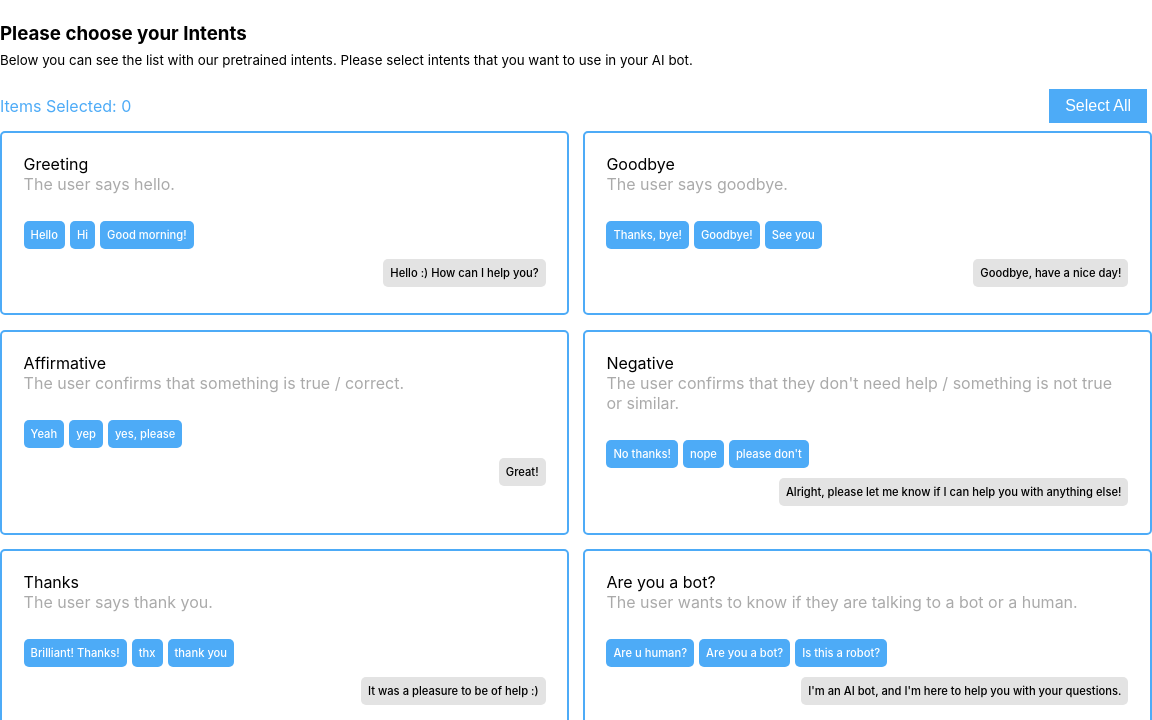
Test case: selects/diselects all items
Expected: the text with test id "counter" reads "0", [121,96,131,116]
# Click button
Click the button "Select All" at (1098, 106), box [1049,89,1147,123]
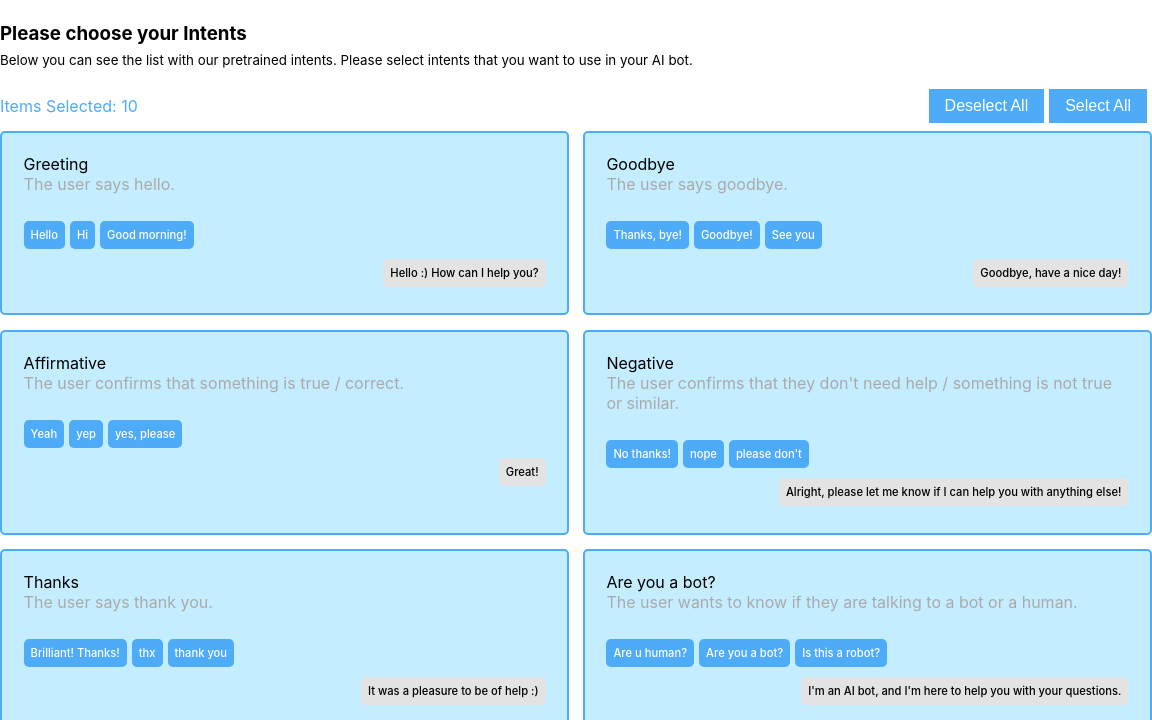
Result: the number of cells with test id "selected" is 10
Result: the text with test id "counter" reads "10" at [121,96,138,116]
# Click button
Click the button "Deselect All" at (986, 106), box [929,89,1044,123]
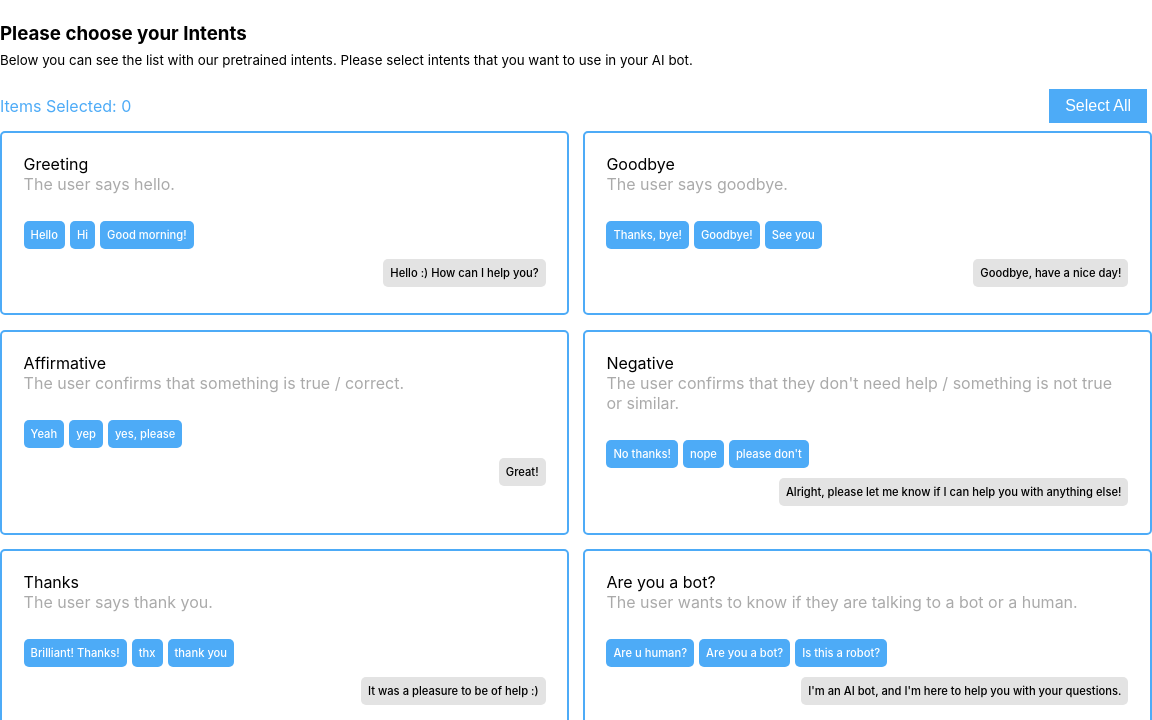
Result: the number of cells with test id "unselected" is 10
Result: the text with test id "counter" reads "0" at [121,96,131,116]
